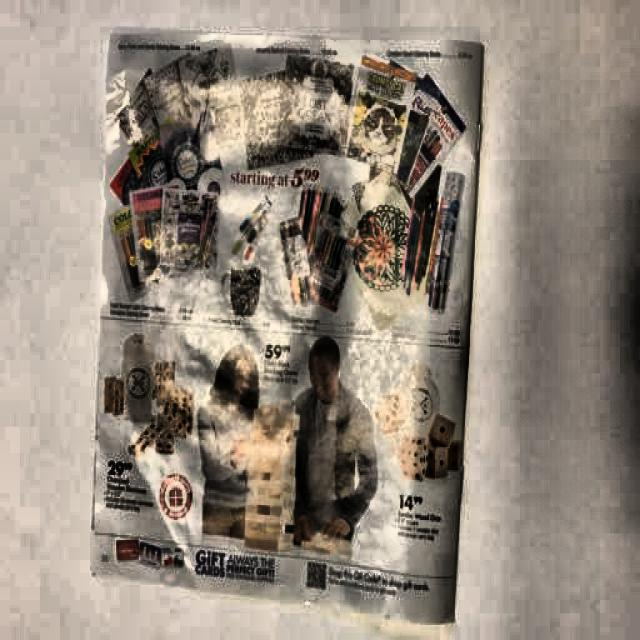paper: (92, 25, 461, 623)
